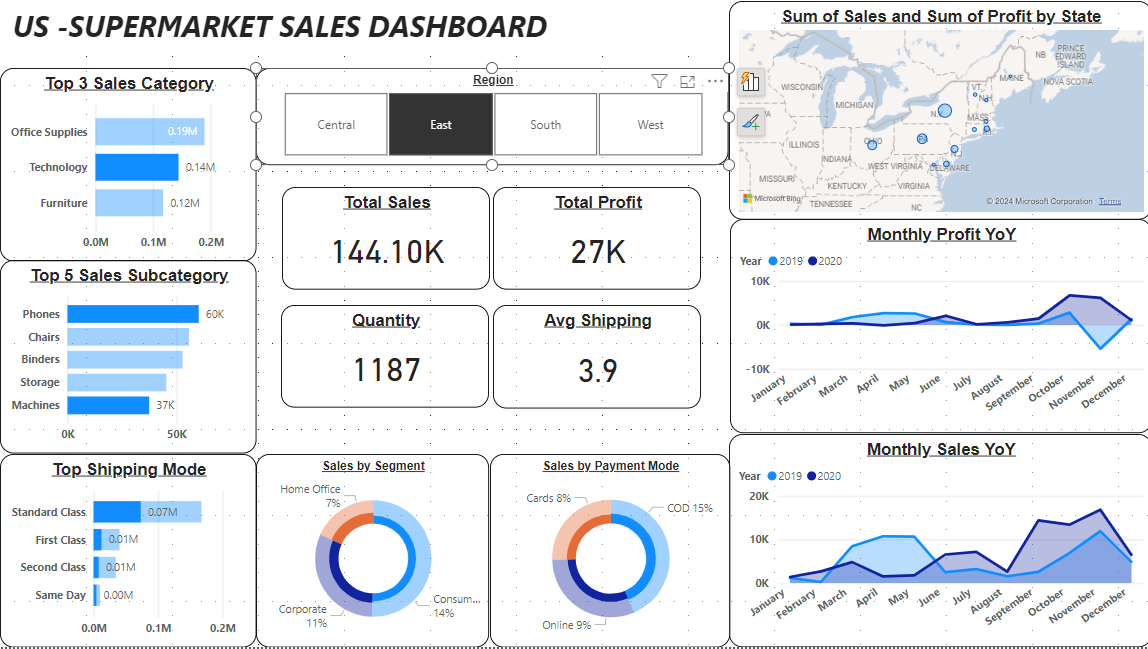

The page's visual inventory and layout, read from the dashboard file:
{"tool":"powerbi","page":{"name":"Dashboard","canvas":[1280,720],"ordinal":0},"visuals":[{"type":"clusteredBarChart","title":"Top 3 Sales Category","fields":{"Category":["Sheet1.Category"],"Y":["Sum(Sheet1.Sales)"]},"box":[0,76.8,285,215.2],"z":0},{"type":"clusteredBarChart","title":"Top 5 Sales Subcategory","fields":{"Category":["Sheet1.Sub-Category"],"Y":["Sum(Sheet1.Sales)"]},"box":[0,290,285,215.2],"z":1000},{"type":"clusteredBarChart","title":"Top Shipping Mode","fields":{"Category":["Sheet1.Ship Mode"],"Y":["Sum(Sheet1.Sales)"]},"box":[0,505.3,285,215.2],"z":2000},{"type":"areaChart","title":"Monthly Sales YoY","fields":{"Y":["Sum(Sheet1.Sales)"],"Category":["Sheet1.Order Date.Variation.Date Hierarchy.Month","Sheet1.Order Date.Variation.Date Hierarchy.Day"],"Series":["Sheet1.Order Date.Variation.Date Hierarchy.Year"]},"box":[810.4,483,469.9,237.5],"z":3000},{"type":"areaChart","title":"Monthly Profit YoY","fields":{"Category":["Sheet1.Order Date.Variation.Date Hierarchy.Month","Sheet1.Order Date.Variation.Date Hierarchy.Day"],"Series":["Sheet1.Order Date.Variation.Date Hierarchy.Year"],"Y":["Sum(Sheet1.Profit)"]},"box":[811.5,244.5,468.9,238.5],"z":4000},{"type":"map","fields":{"Category":["Sheet1.State"],"Size":["Sum(Sheet1.Sales)"]},"box":[810.4,2,469.9,242.5],"z":5000},{"type":"donutChart","title":"Sales by Segment","fields":{"Category":["Sheet1.Segment"],"Y":["Sum(Sheet1.Sales)"]},"box":[285,505.3,258.7,215.2],"z":6000},{"type":"donutChart","title":"Sales by Payment Mode","fields":{"Y":["Sum(Sheet1.Sales)"],"Category":["Sheet1.Payment Mode"]},"box":[544.7,505.3,266.8,215.2],"z":7000},{"type":"slicer","title":"Region","fields":{"Values":["Sheet1.Region"]},"box":[285,76.8,525.5,108.1],"z":8000},{"type":"card","title":"Total Sales","fields":{"Values":["Sum(Sheet1.Sales)"]},"box":[313.3,209.2,231.4,114.2],"z":8001},{"type":"card","title":"Quantity","fields":{"Values":["Sum(Sheet1.Quantity)"]},"box":[312.3,340.5,231.4,114.2],"z":8002},{"type":"card","title":"Total Profit","fields":{"Values":["Sum(Sheet1.Profit)"]},"box":[547.7,209.2,231.4,114.2],"z":8003},{"type":"textbox","box":[0,2,810.4,58.6],"z":8005},{"type":"card","title":"Avg Shipping","fields":{"Values":["Avg(Sheet1.AveDelivery)"]},"box":[547.7,340.5,231.4,115.2],"z":8006}]}

Visuals, with their boxes in screenshot pixels (x1, y1, x2, y2), scaled from the page's 1280x720 canvas onto the 1148x649 screenshot:
"Top 3 Sales Category" clusteredBarChart: <bbox>0, 69, 256, 263</bbox>
"Top 5 Sales Subcategory" clusteredBarChart: <bbox>0, 261, 256, 455</bbox>
"Top Shipping Mode" clusteredBarChart: <bbox>0, 455, 256, 648</bbox>
"Monthly Sales YoY" areaChart: <bbox>727, 435, 1147, 648</bbox>
"Monthly Profit YoY" areaChart: <bbox>728, 220, 1147, 435</bbox>
map - Sheet1.State x Sum(Sheet1.Sales): <bbox>727, 2, 1147, 220</bbox>
"Sales by Segment" donutChart: <bbox>256, 455, 488, 648</bbox>
"Sales by Payment Mode" donutChart: <bbox>489, 455, 728, 648</bbox>
"Region" slicer: <bbox>256, 69, 727, 167</bbox>
"Total Sales" card: <bbox>281, 189, 489, 292</bbox>
"Quantity" card: <bbox>280, 307, 488, 410</bbox>
"Total Profit" card: <bbox>491, 189, 699, 292</bbox>
textbox: <bbox>0, 2, 727, 55</bbox>
"Avg Shipping" card: <bbox>491, 307, 699, 411</bbox>
